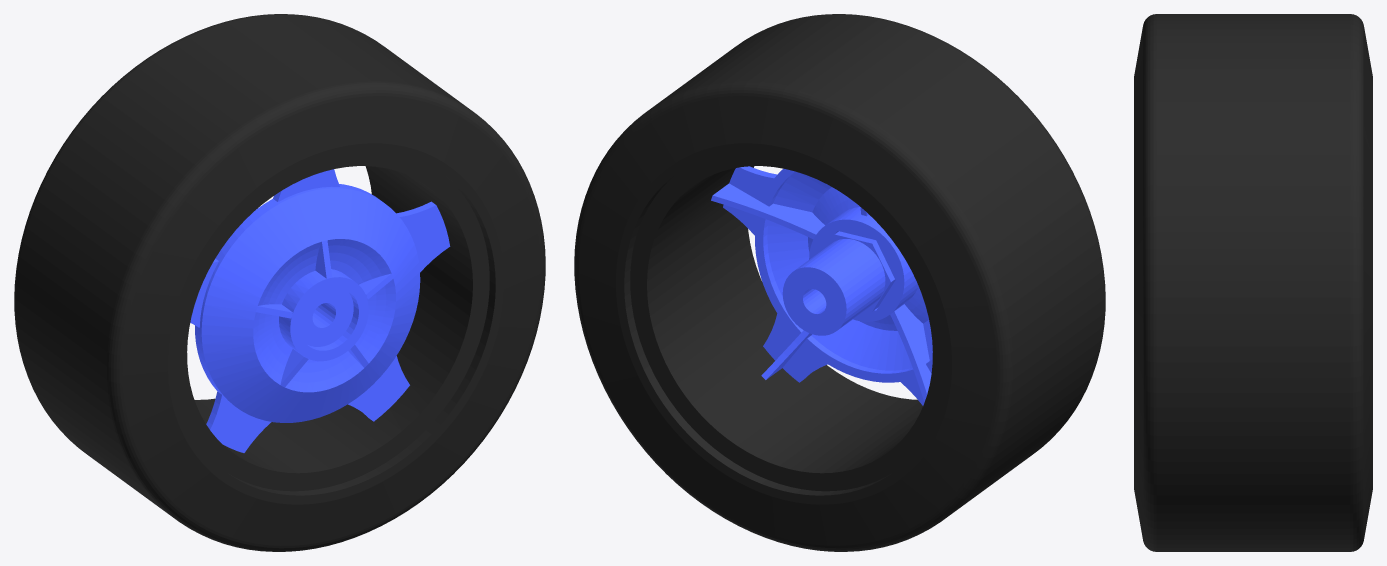
Rendered from right_wheel_1.dae.
3 views of the same model, side by side, from view 1: azimuth 30°, elevation 25°; view 2: azimuth 150°, elevation 25°; view 3: azimuth 270°, elevation 25° (orthographic). The views are drawn at different scales.
Parts seen in each view (by area): view 1: right_wheel_1; view 2: right_wheel_1; view 3: right_wheel_1.
Boxes of the visible parts, x1=… form: right_wheel_1: x1=14, y1=14, x2=545, y2=551; right_wheel_1: x1=574, y1=14, x2=1105, y2=551; right_wheel_1: x1=1134, y1=14, x2=1372, y2=551.
Bounding box in the file's own units: 77.99 × 34.6 × 77.98.
